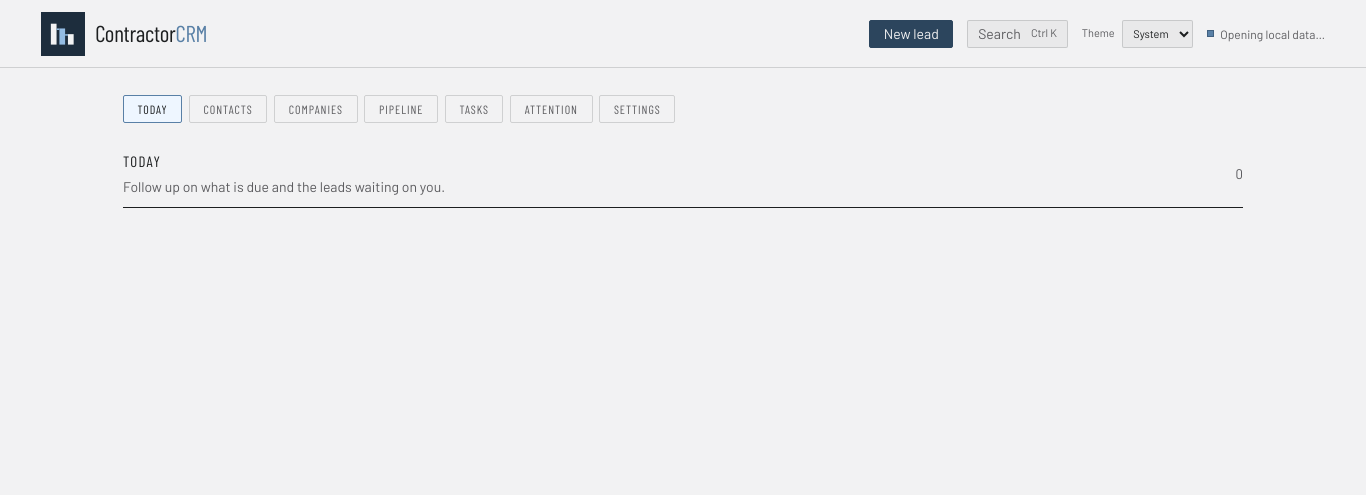
Test case: contact list and detail › hides archived contacts by default and shows them with the toggle
The width and height of the screenshot is (1366, 495).
Click the button "Contacts".
click(228, 109)  # box [189,95,267,123]
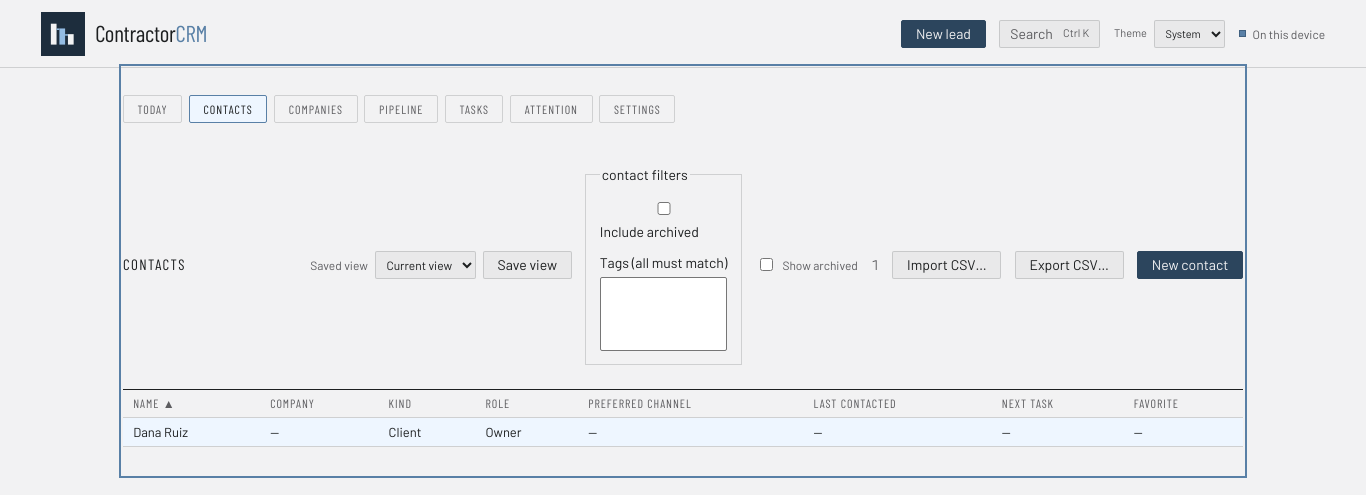
Expected: the text "Old Sub" is not shown
Expected: the table named "Contact list" is shown, [123,390,1243,447]
Click the checkbox labelled "Show archived".
click(766, 264)  # box [760,258,773,271]
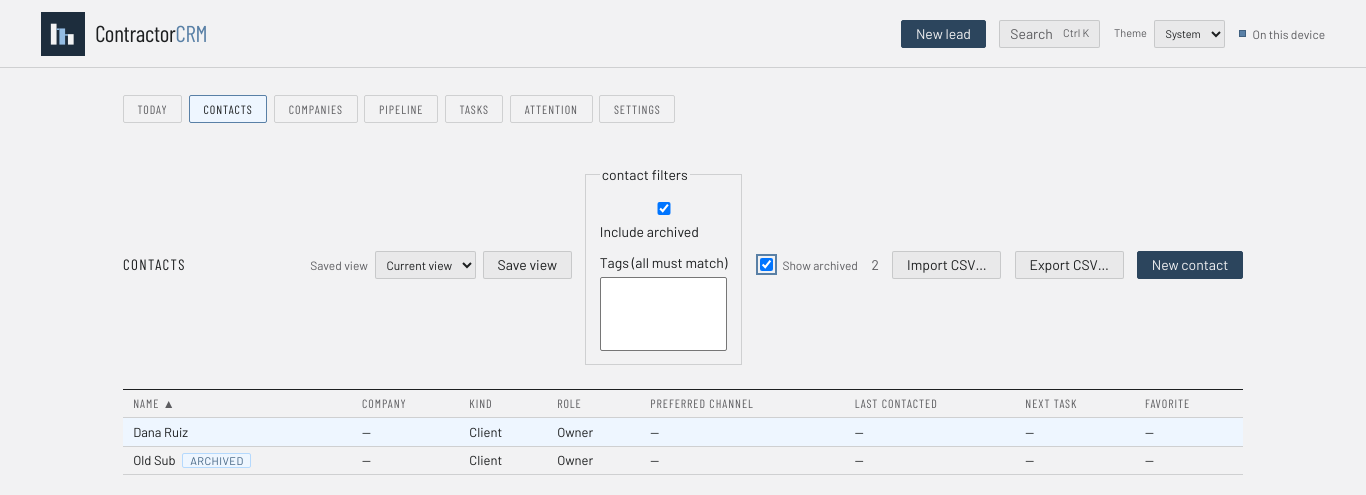
Expected: the text "Old Sub" is shown, [133,452,176,468]
